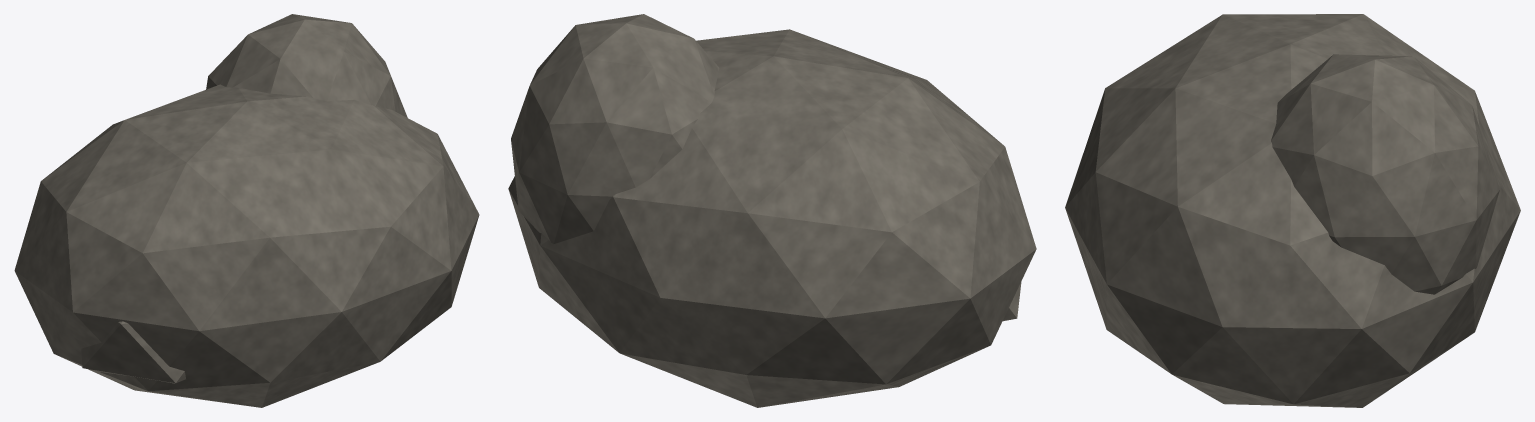
File: rock_outcrop.fbx
The picture shows the model from 3 angles, left to right: view 1: azimuth 30°, elevation 25°; view 2: azimuth 150°, elevation 25°; view 3: azimuth 270°, elevation 25°; orthographic projection. The views are drawn at different scales.
Visible parts, largest first — view 1: Rock; view 2: Rock; view 3: Rock.
Boxes of the visible parts, bbox=[...] form: Rock: bbox=[14, 14, 479, 407]; Rock: bbox=[508, 14, 1036, 407]; Rock: bbox=[1065, 14, 1520, 407].
Bounding box in the file's own units: 26.64 × 19.86 × 22.04.
